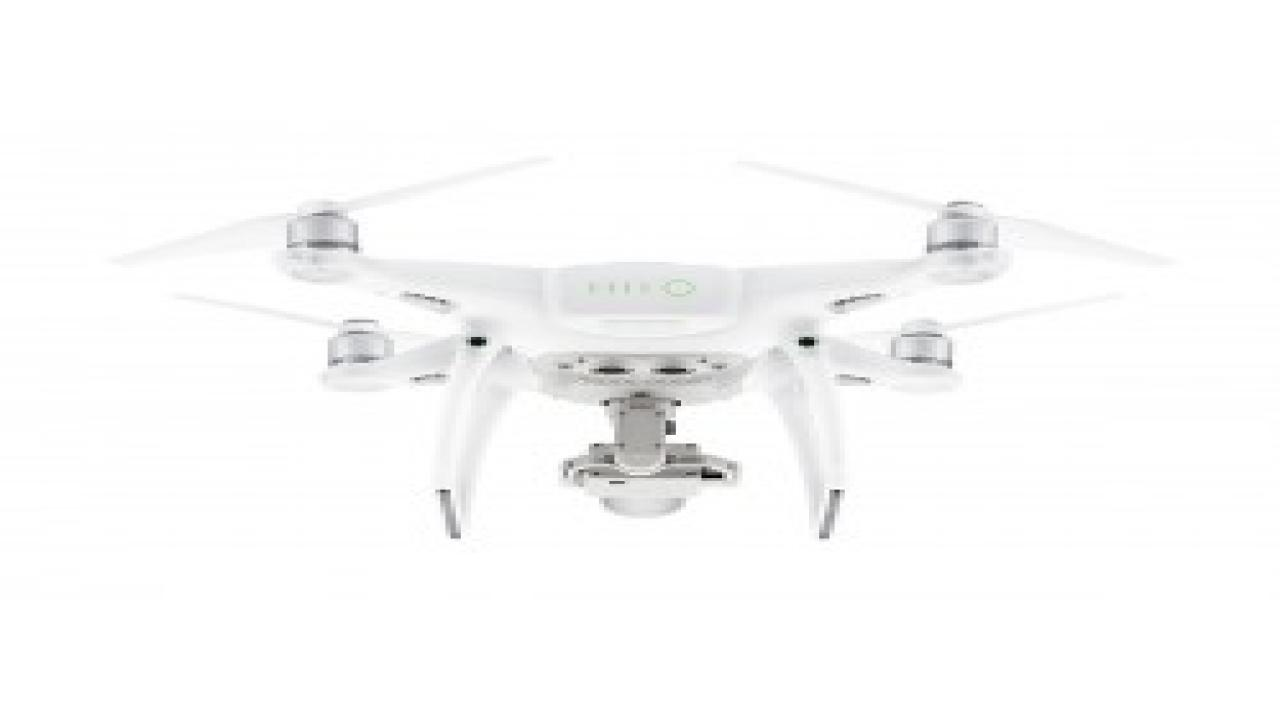Drone: (86, 137, 1213, 550)
